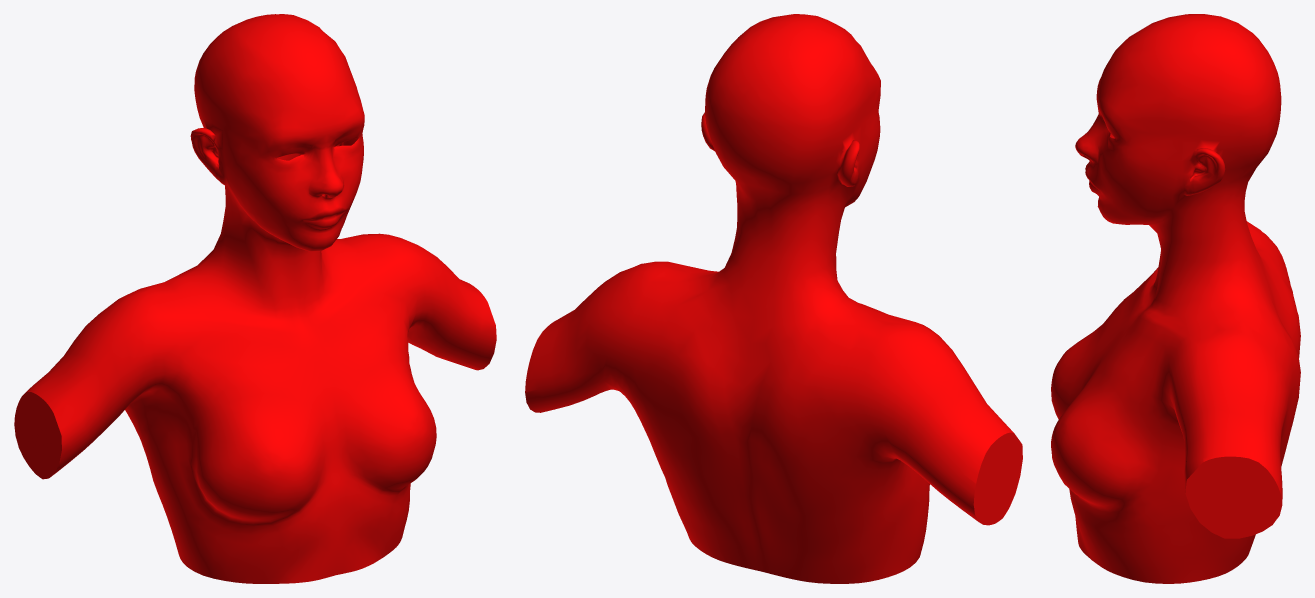
The model's file is torso copy.obj.
3 views of the same model, side by side, from view 1: azimuth 30°, elevation 25°; view 2: azimuth 150°, elevation 25°; view 3: azimuth 270°, elevation 25° (orthographic). The views are drawn at different scales.
Parts seen in each view (by area): view 1: Body_Plane.004; view 2: Body_Plane.004; view 3: Body_Plane.004.
Part boxes in pixels (left/top/right/bottom): Body_Plane.004: left=14, top=14, right=496, bottom=583; Body_Plane.004: left=525, top=14, right=1022, bottom=583; Body_Plane.004: left=1051, top=14, right=1300, bottom=583.
Bounding box in the file's own units: 0.5286 × 0.594 × 0.2626.
